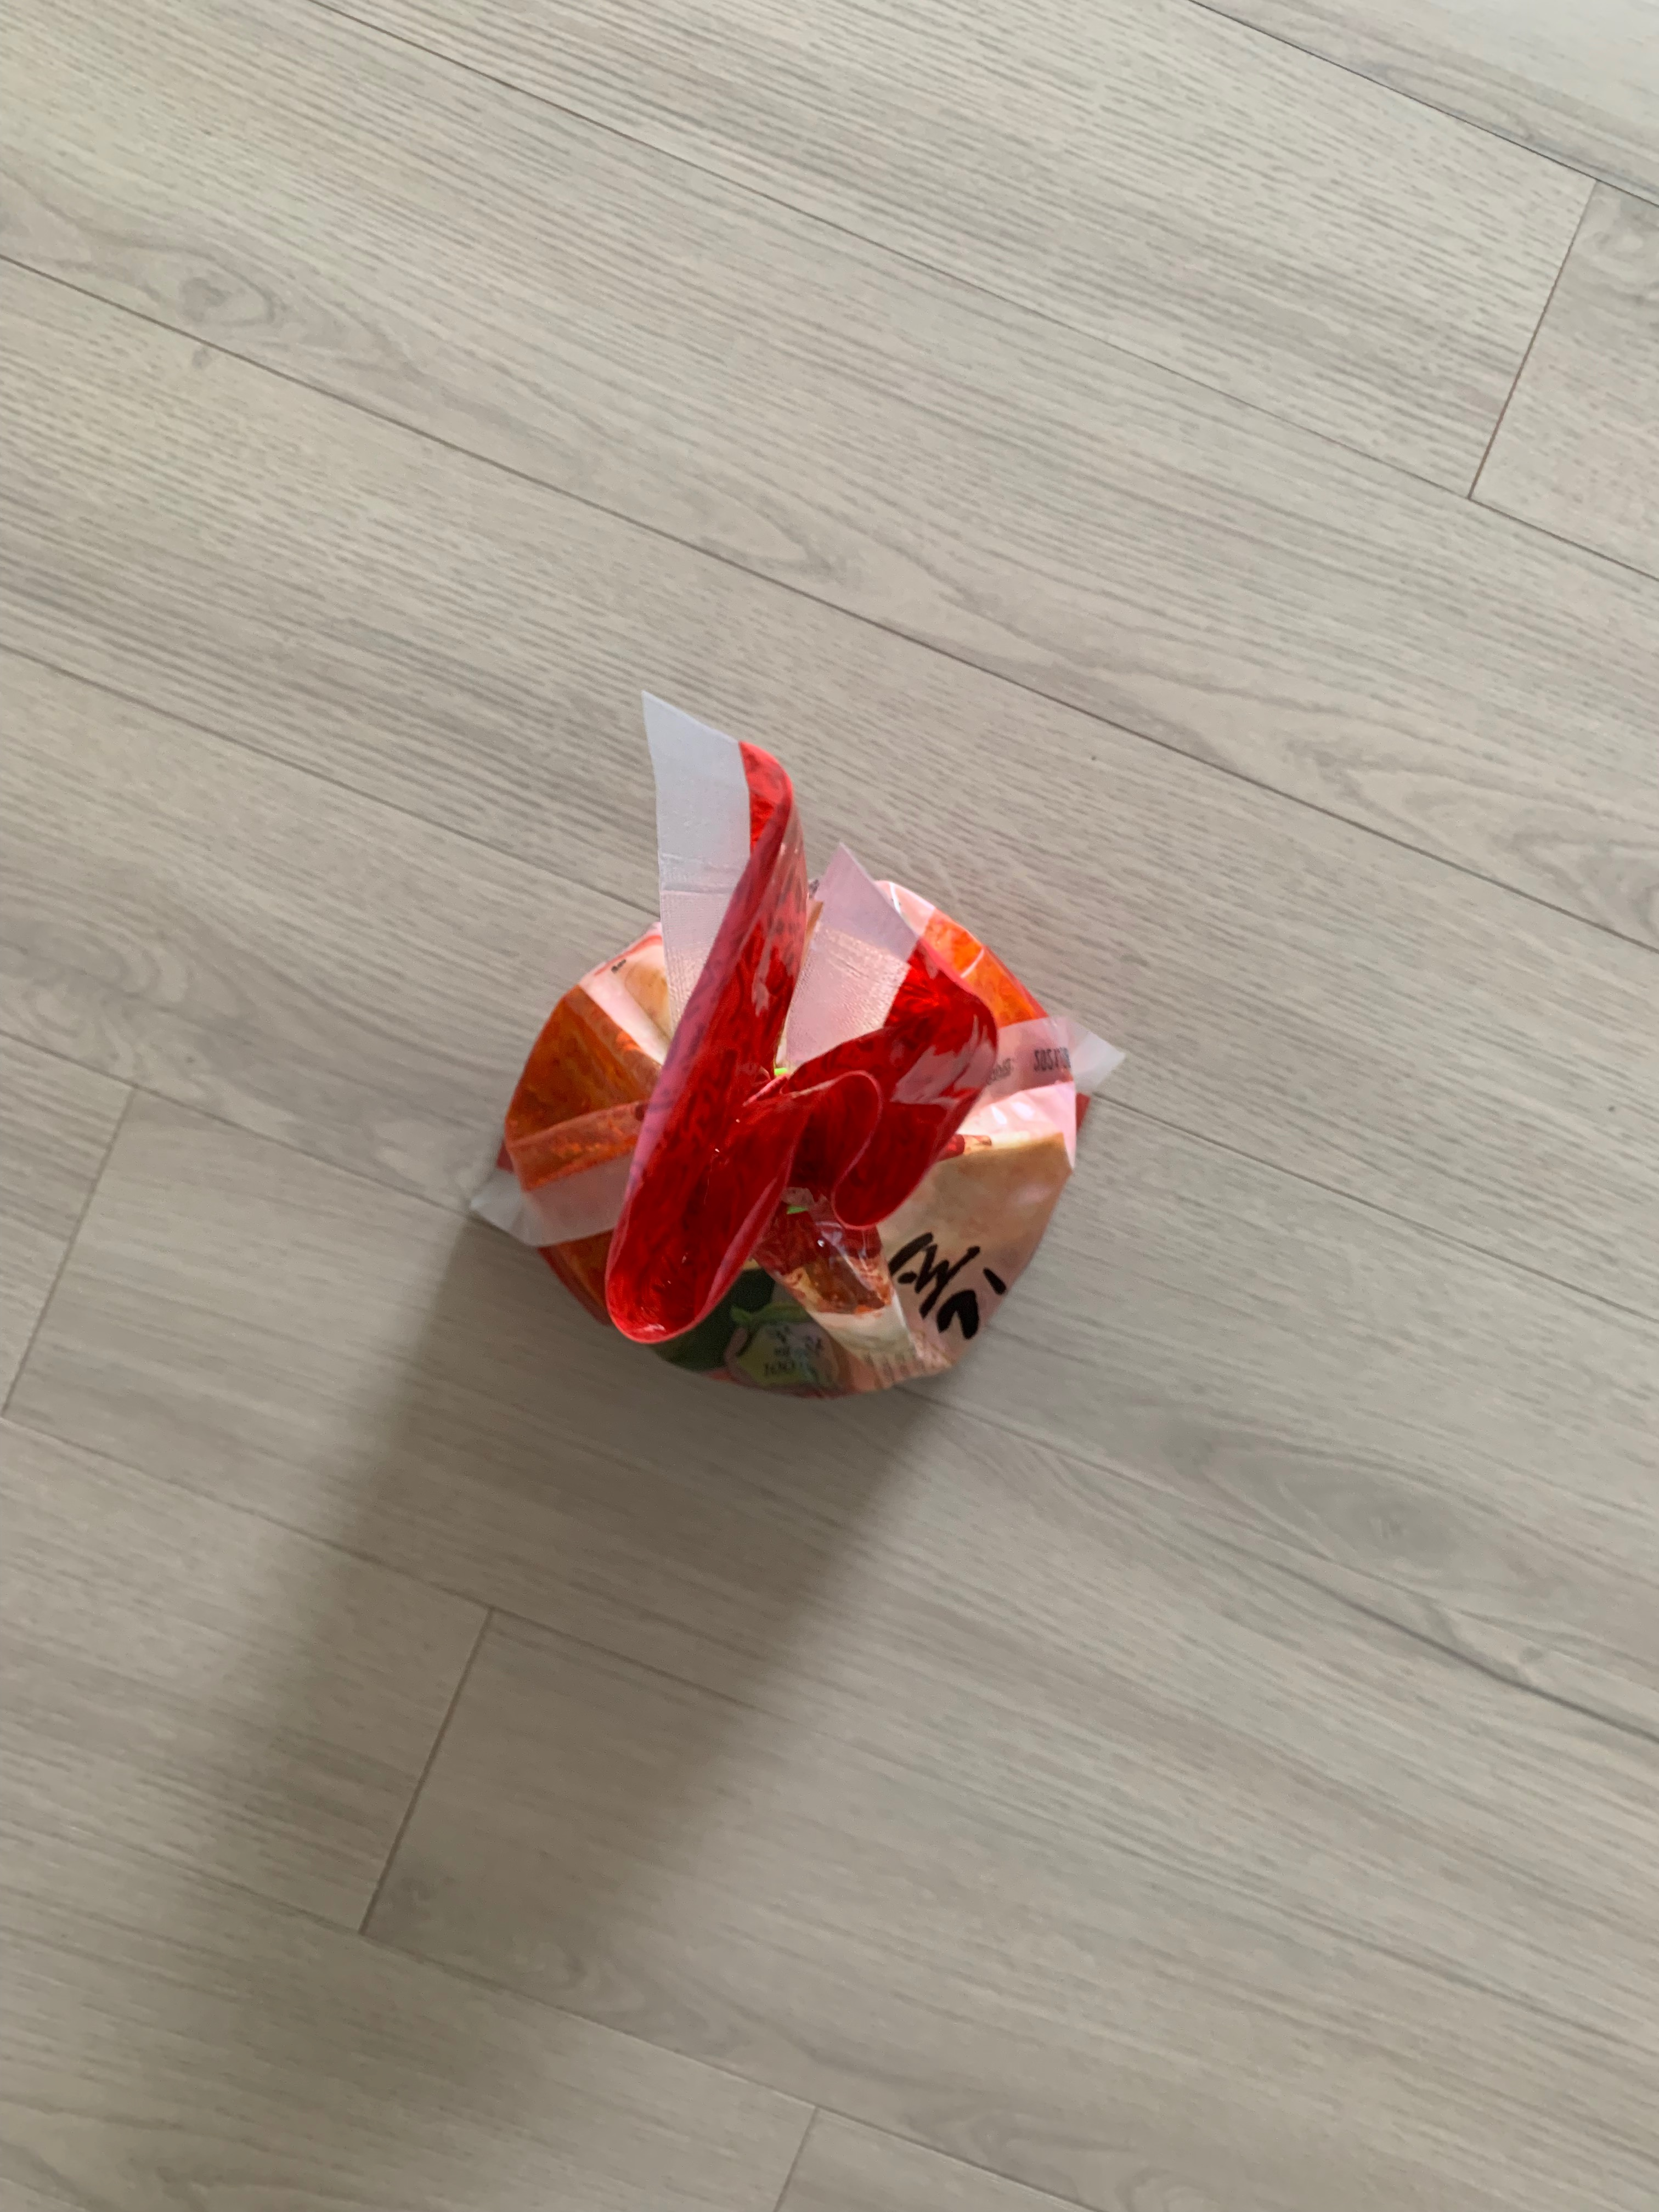kimchi: (484, 749, 1093, 1407)
